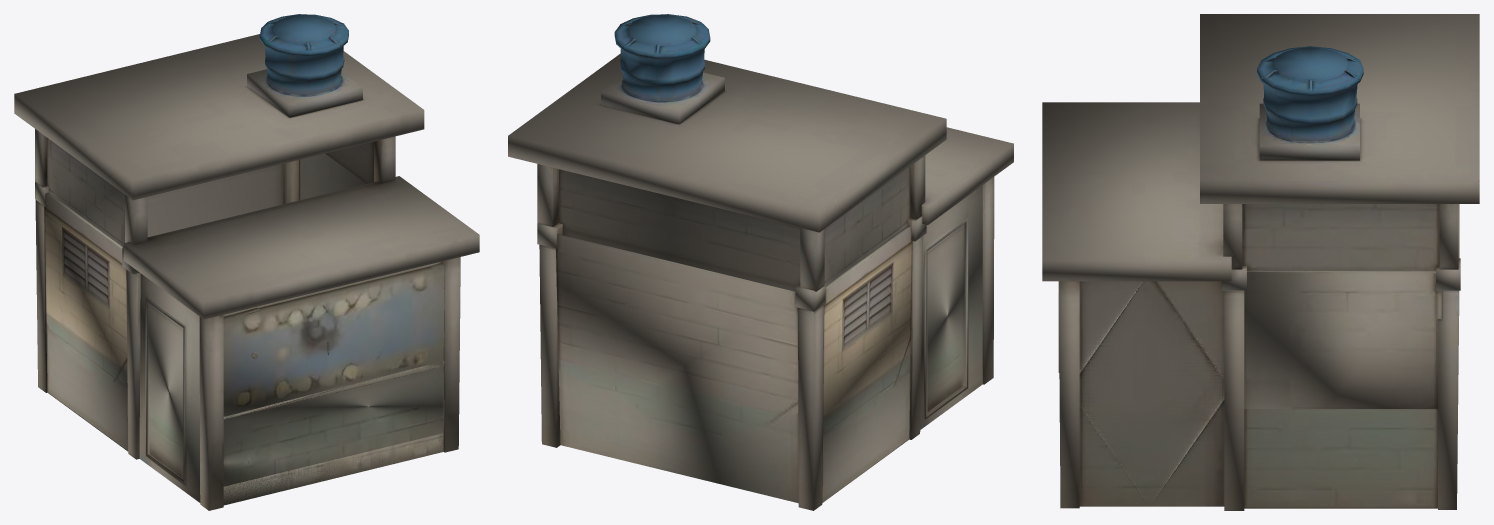
The model's file is vestiario_clube.glb.
3 views of the same model, side by side, from view 1: azimuth 30°, elevation 25°; view 2: azimuth 150°, elevation 25°; view 3: azimuth 270°, elevation 25° (orthographic). The views are drawn at different scales.
Parts seen in each view (by area): view 1: Vestiário do clube; view 2: Vestiário do clube; view 3: Vestiário do clube.
Boxes of the visible parts, x1,y1,x2,y2 form: Vestiário do clube: (14, 14, 479, 510); Vestiário do clube: (508, 14, 1013, 510); Vestiário do clube: (1042, 14, 1479, 510).
Size of the model in its own units: 0.8535 by 0.998 by 0.9434.
Materials: 1 (1 with a texture image).
